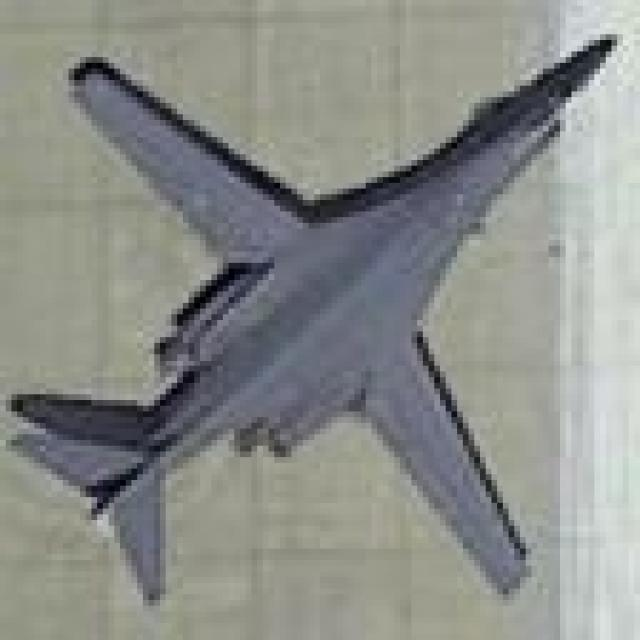B-1_TopDown: (0, 23, 617, 606)
